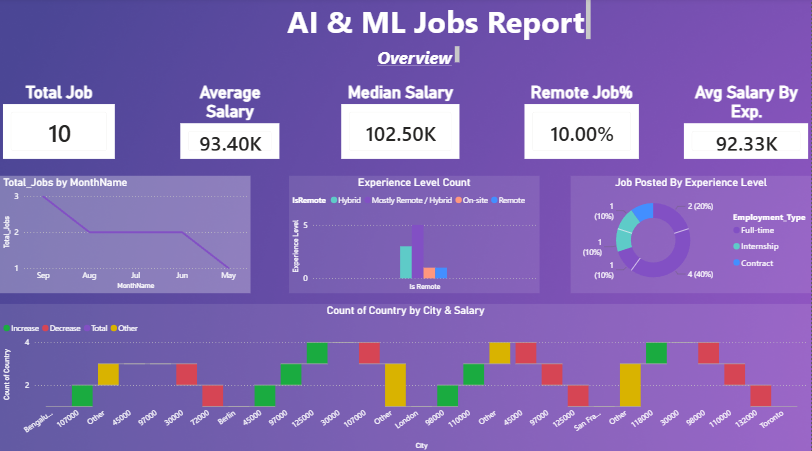

This screenshot's page, from the dashboard's own definition file:
{"tool":"powerbi","page":{"name":"Overview","canvas":[1280,720],"ordinal":0},"visuals":[{"type":"cardVisual","title":"Average Salary","fields":{"Data":["Fact_Jobs.Avg_Salary"]},"box":[280,133.3,166.7,126.7],"z":0},{"type":"cardVisual","title":"Median Salary","fields":{"Data":["Fact_Jobs.Median_Salary"]},"box":[533.3,133.3,196.7,126.7],"z":1000},{"type":"cardVisual","title":"Remote Job%","fields":{"Data":["Fact_Jobs.Remote_Job%"]},"box":[823.3,133.3,190,126.7],"z":2000},{"type":"cardVisual","title":"Avg Salary By Exp.","fields":{"Data":["Fact_Jobs.Avg_Salary_By_Experience"]},"box":[1073.3,133.3,206.7,126.7],"z":3000},{"type":"cardVisual","title":"Total Job","fields":{"Data":["Fact_Jobs.Total_Jobs"]},"box":[0,133.3,186.7,126.7],"z":4000},{"type":"lineChart","fields":{"Category":["Dim_Date.MonthName"],"Y":["Fact_Jobs.Total_Jobs"]},"box":[0,282.5,395,185],"z":5000},{"type":"clusteredColumnChart","title":"Experience Level Count","fields":{"Series":["Fact_Jobs.IsRemote"],"Y":["CountNonNull(Fact_Jobs.Experience_Level)"]},"box":[455,282.5,395,185],"z":6000},{"type":"donutChart","title":"Job Posted By Experience Level ","fields":{"Series":["Fact_Jobs.IsRemote"],"Category":["Fact_Jobs.Employment_Type"],"Y":["Fact_Jobs.Total_Jobs"]},"box":[900,282.5,380,185],"z":7000},{"type":"waterfallChart","title":"Count of Country by City & Salary","fields":{"Category":["Dim_Locations.City"],"Breakdown":["Fact_Jobs.Salary_USD"],"Y":["CountNonNull(Dim_Locations.Country)"]},"box":[0,485,1280,235],"z":8000},{"type":"textbox","box":[447.5,0,490,72.5],"z":9000},{"type":"textbox","box":[590,72.5,140,40],"z":10000}]}

Visuals, with their boxes in screenshot pixels (x1, y1, x2, y2), scaled from the page's 1280x720 canvas onto the 812x451 screenshot:
"Average Salary" cardVisual: l=178, t=83, r=283, b=163
"Median Salary" cardVisual: l=338, t=83, r=463, b=163
"Remote Job%" cardVisual: l=522, t=83, r=643, b=163
"Avg Salary By Exp." cardVisual: l=681, t=83, r=811, b=163
"Total Job" cardVisual: l=0, t=83, r=118, b=163
lineChart - Dim_Date.MonthName x Fact_Jobs.Total_Jobs: l=0, t=177, r=251, b=293
"Experience Level Count" clusteredColumnChart: l=289, t=177, r=539, b=293
"Job Posted By Experience Level " donutChart: l=571, t=177, r=811, b=293
"Count of Country by City & Salary" waterfallChart: l=0, t=304, r=811, b=450
textbox: l=284, t=0, r=595, b=45
textbox: l=374, t=45, r=463, b=70
